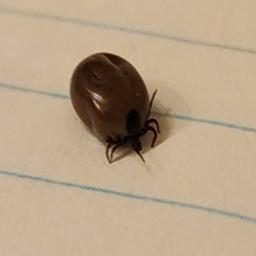Ixodes scapularis: (57, 68, 144, 184)
